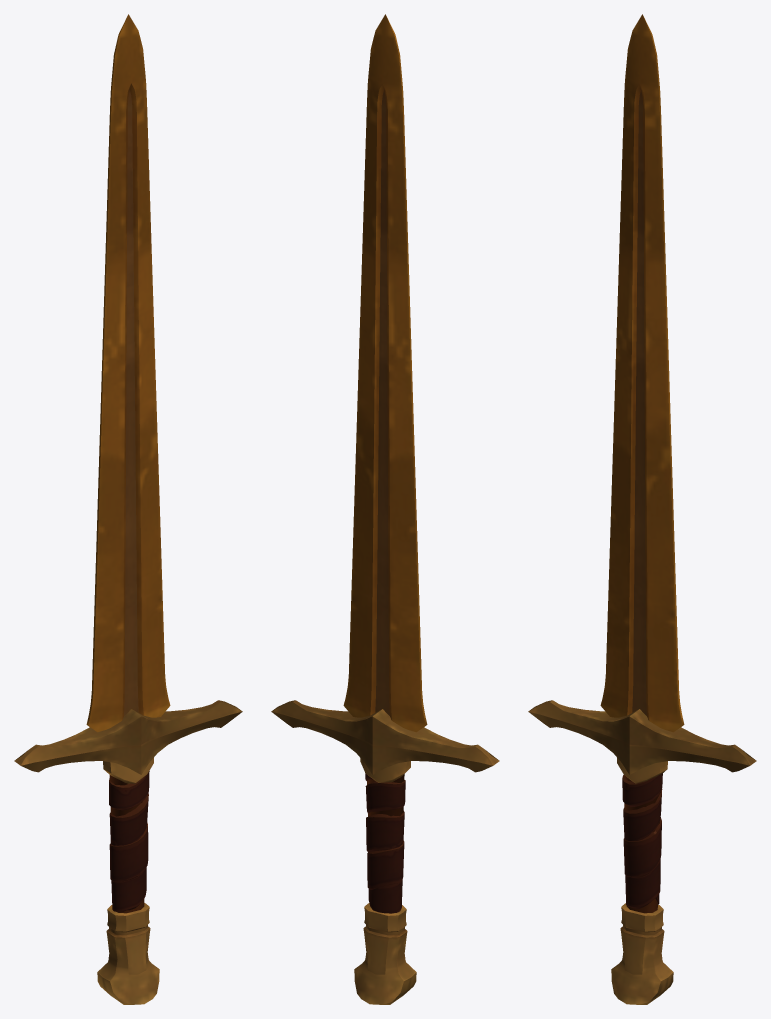
Rendered from Sword_Bronze.gltf.
3 views of the same model, side by side, from view 1: azimuth 30°, elevation 25°; view 2: azimuth 150°, elevation 25°; view 3: azimuth 330°, elevation 25° (orthographic).
Parts seen in each view (by area): view 1: Sword_Bronze; view 2: Sword_Bronze; view 3: Sword_Bronze.
Boxes of the visible parts, x1,y1,x2,y2 form: Sword_Bronze: (14,14,242,1004); Sword_Bronze: (271,14,499,1004); Sword_Bronze: (528,14,756,1004).
Size of the model in its own units: 0.2666 by 1.13 by 0.0654.
1 material, 1 textured.
